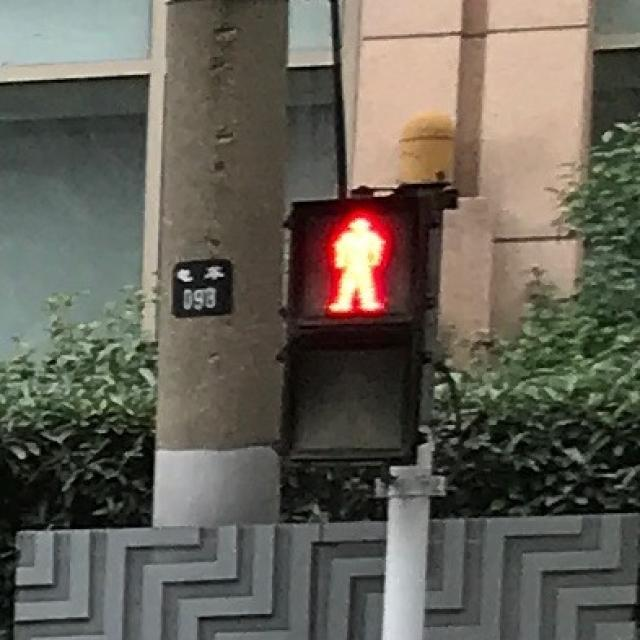red_light: (296, 200, 412, 322)
